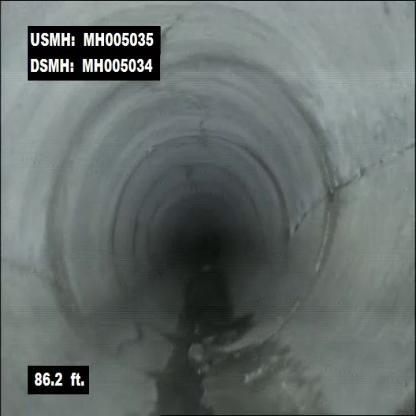crack: (328, 130, 416, 212), (175, 326, 250, 416), (0, 232, 58, 294), (110, 319, 150, 367)
